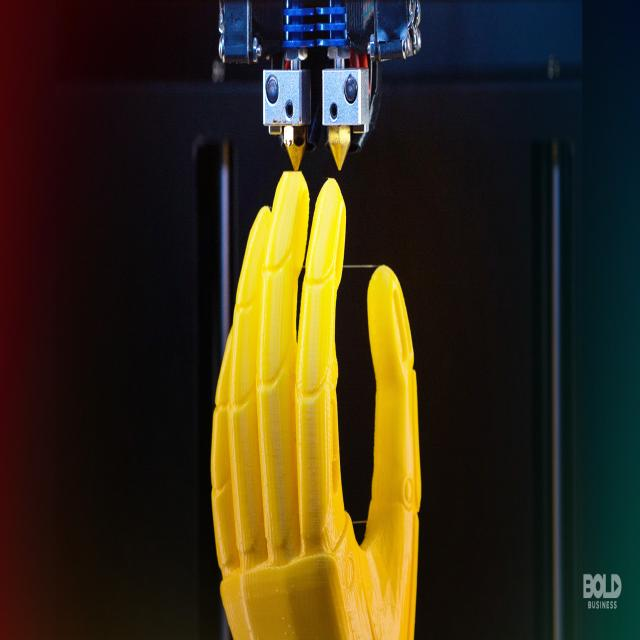Without deffect: (207, 162, 454, 640)
